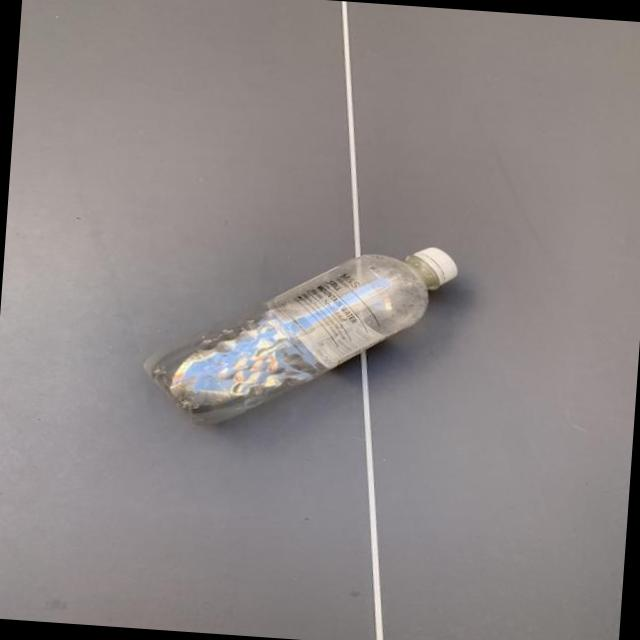plastic_bottle: (138, 228, 460, 444)
